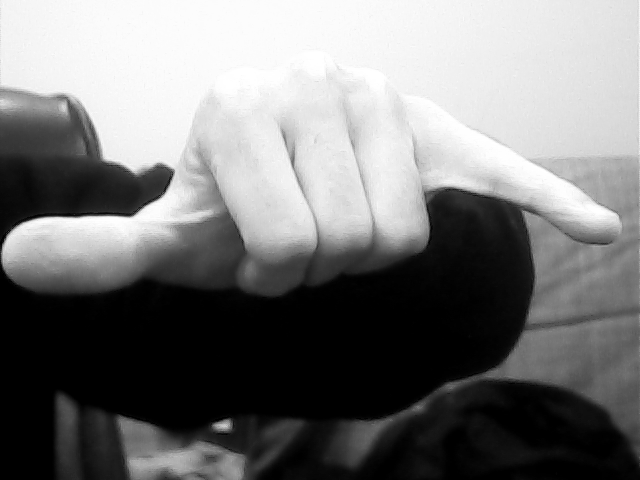aloha: (1, 46, 623, 299)
